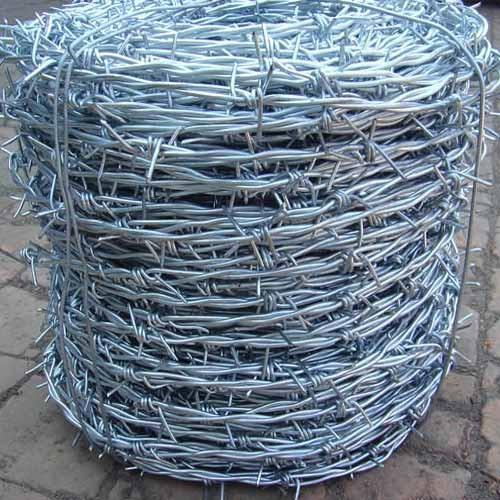Nonrec_Tangler: (27, 1, 456, 478)
